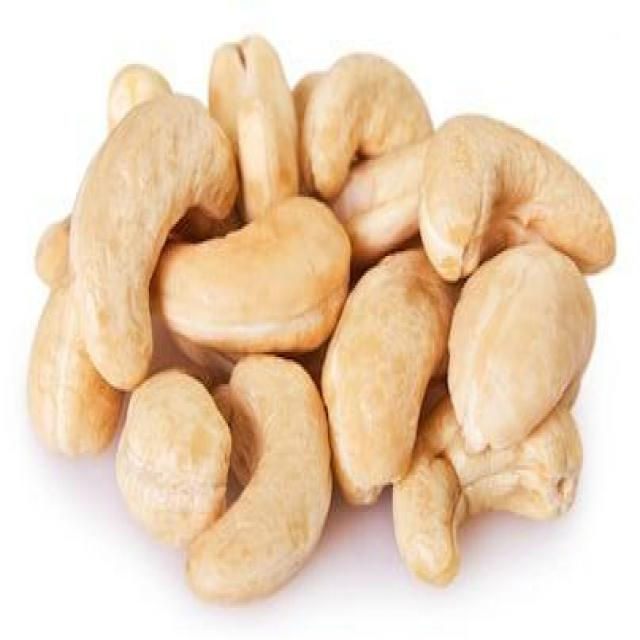Cashew: (236, 384, 375, 617), (445, 90, 640, 256), (73, 80, 170, 403), (354, 278, 496, 484), (107, 399, 255, 575), (470, 276, 614, 446), (199, 210, 348, 374), (306, 52, 442, 151), (227, 76, 303, 224)
